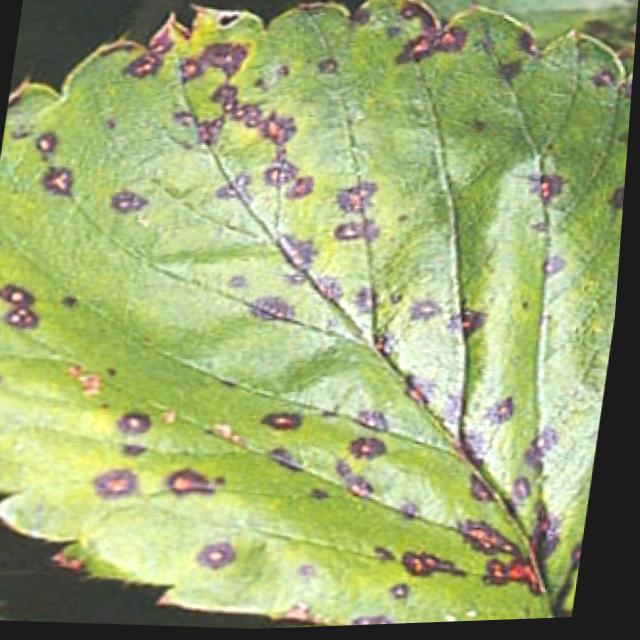Leaf Spot: (0, 0, 634, 630), (417, 0, 639, 80), (0, 567, 271, 631)
